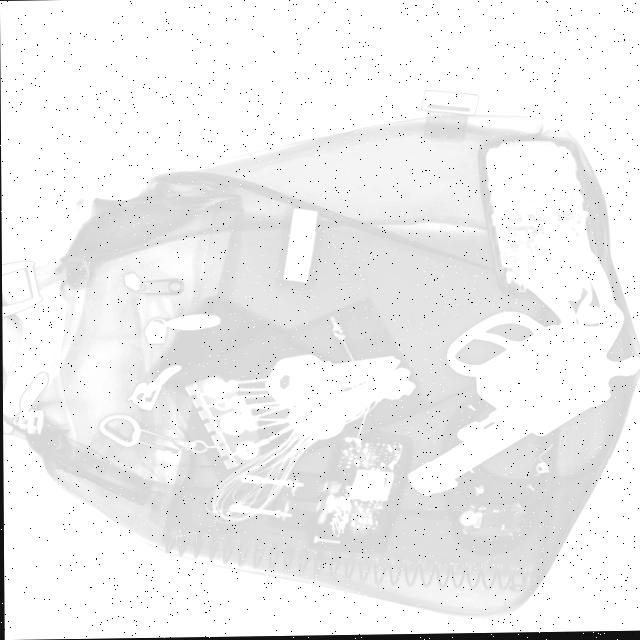pistol: (404, 234, 640, 497)
